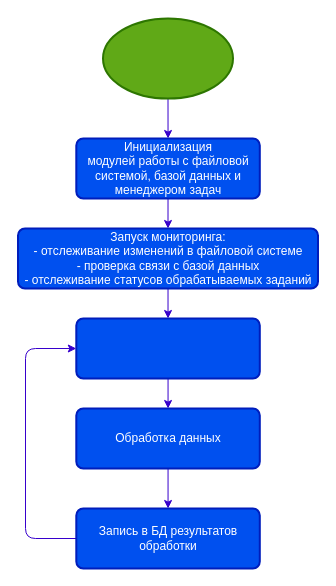
The diagram is 336 pixels wide and 586 high, and some of its shapes have lost their labels. The shapes that lost their labels are listed below. From the top down, each one's centre as x and y in pixels, then its label:
At (168,58): "Запуск программы".
At (167,348): "Формирование новых заданий на основе метаданных из БД".
